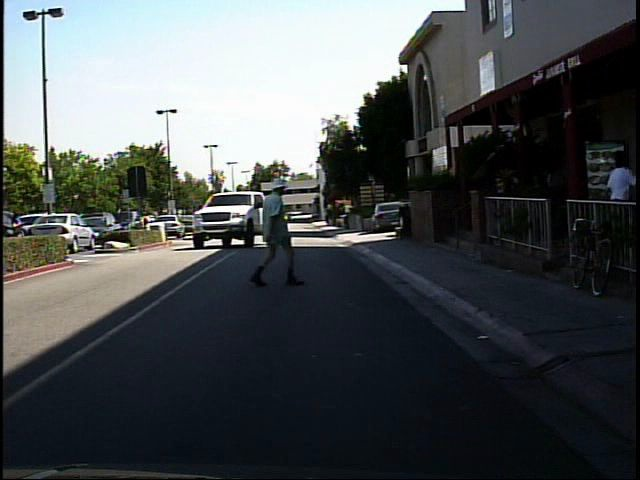person: (244, 170, 303, 289), (598, 143, 629, 267), (8, 205, 31, 262), (137, 206, 154, 241), (219, 205, 235, 230)
